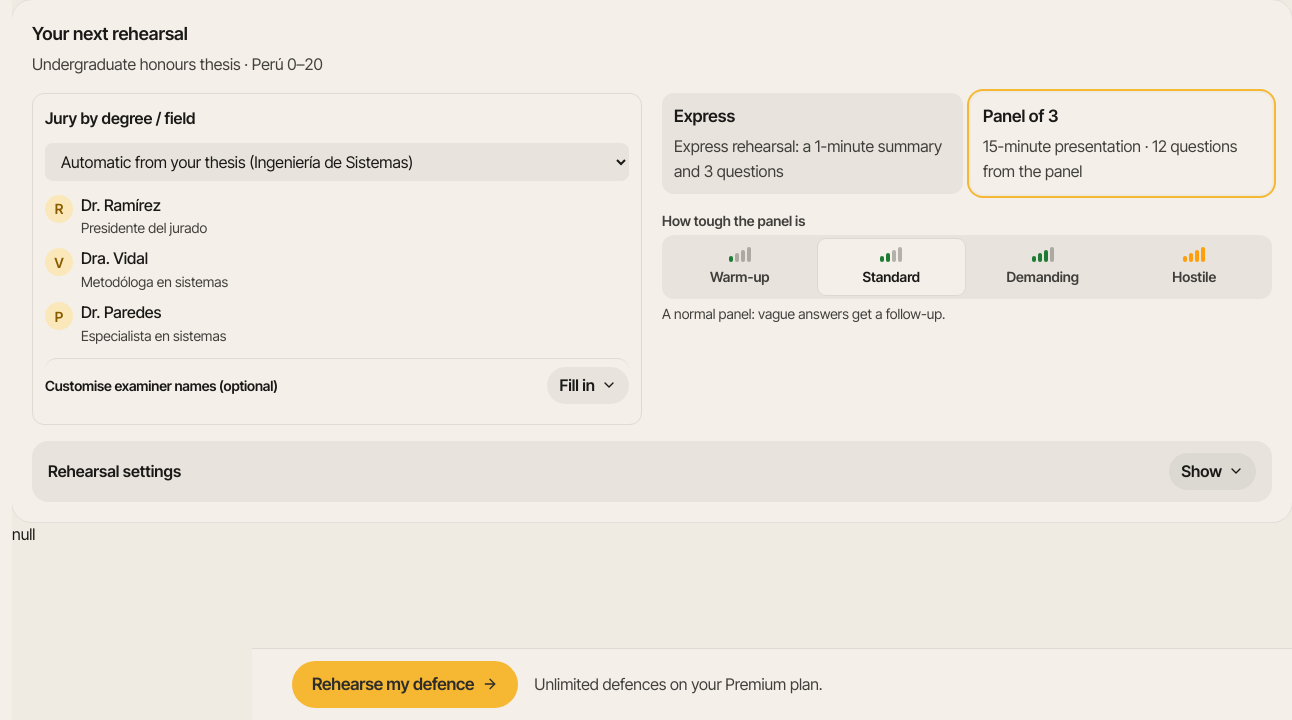
rehearsal setup › reports a failed save and keeps the previous jury
Select "Derecho" in the dropdown labelled "Jury by degree / field" at (337,162), box [45, 143, 629, 181]
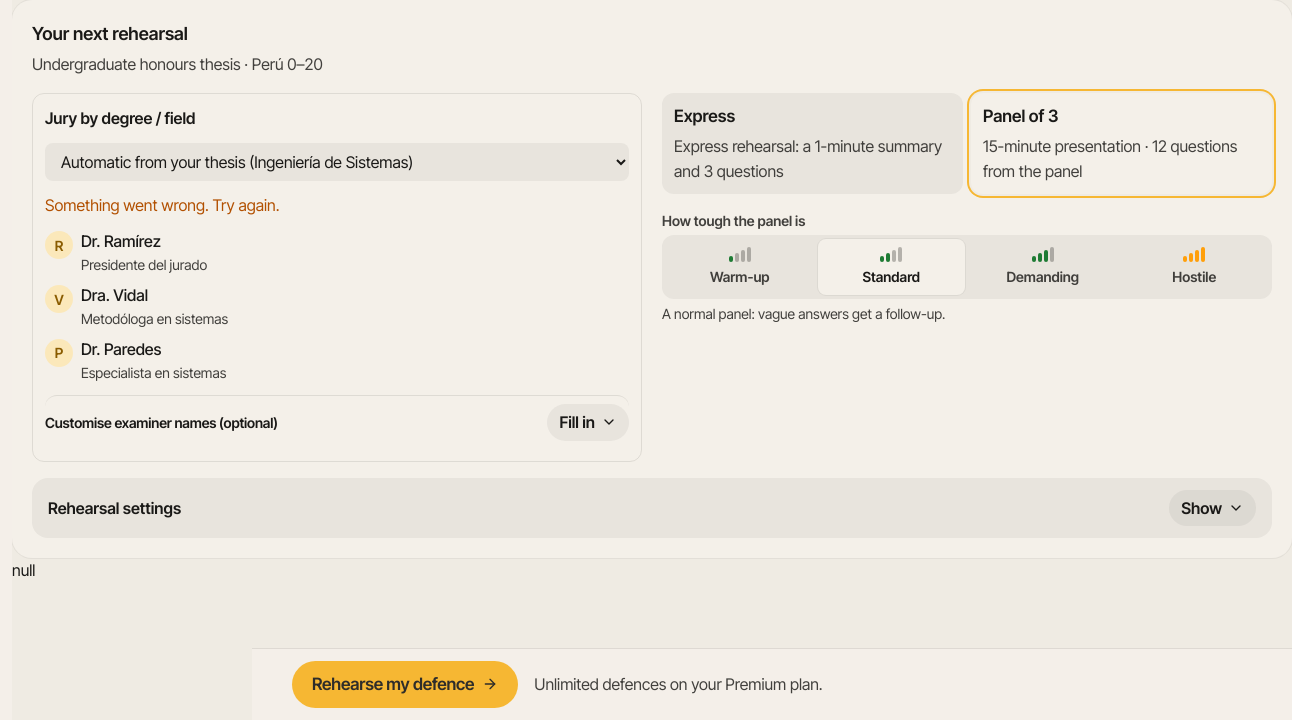
Expected: the text "Especialista en sistemas" is shown, [81, 362, 226, 383]
Now the message shows "Something went wrong", box [45, 195, 279, 215]
